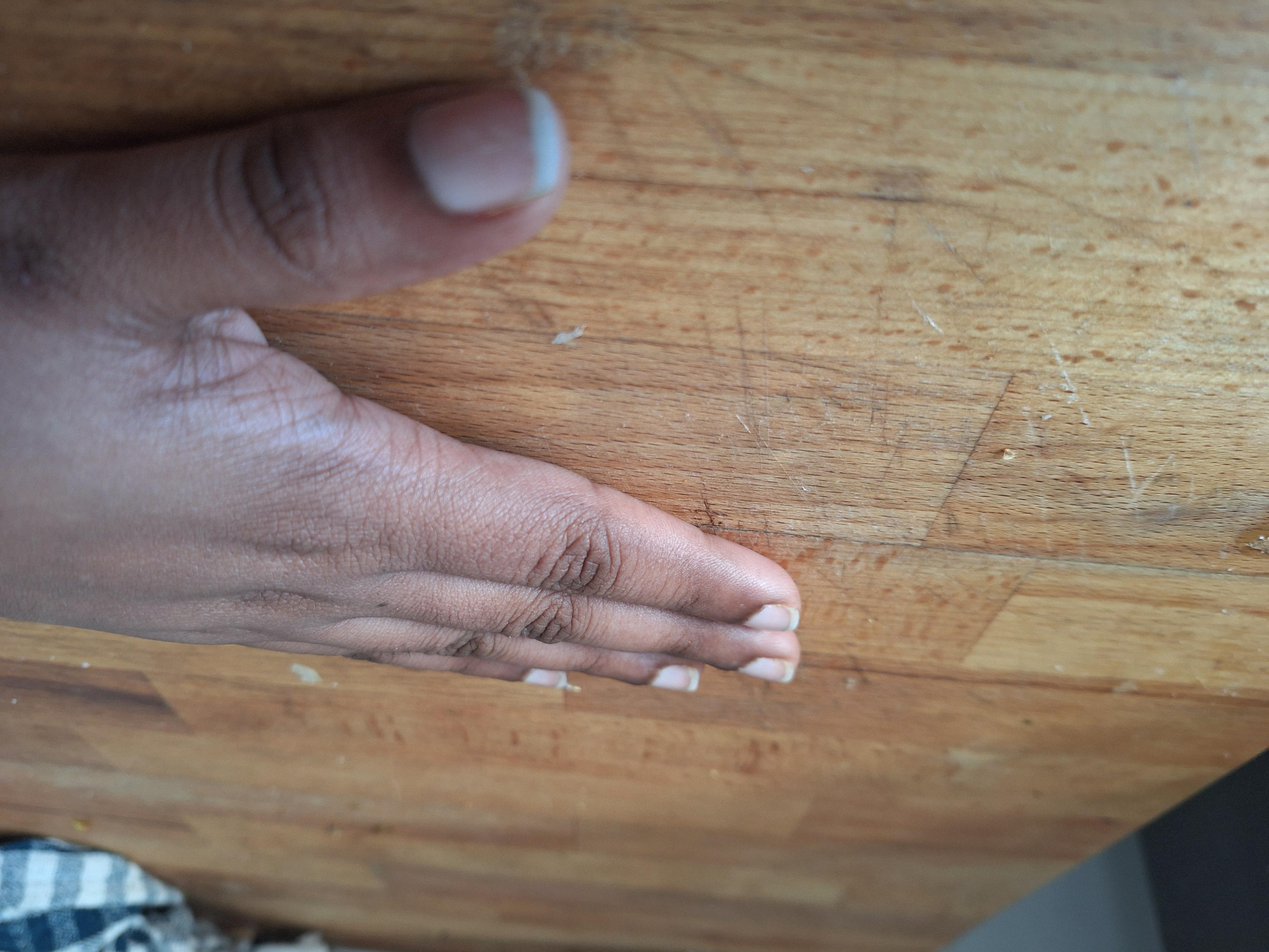Fingernail: (409, 81, 567, 214), (746, 604, 802, 632), (740, 658, 794, 684), (651, 665, 700, 691), (526, 668, 568, 689)
